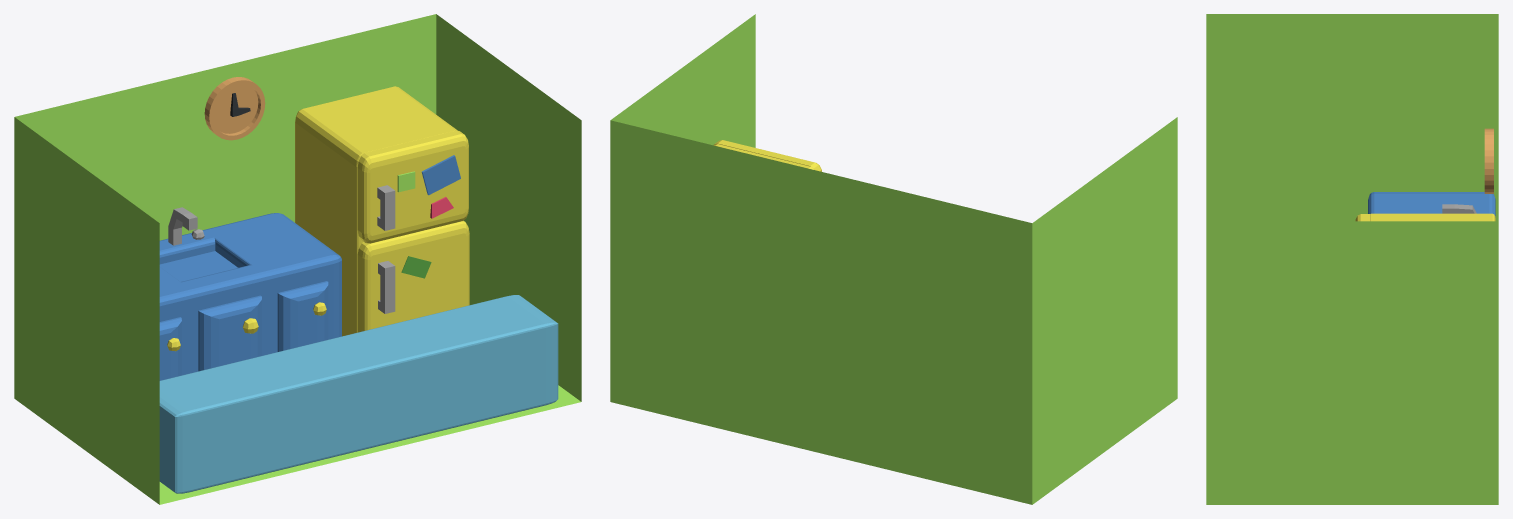
The model's file is cocina_mesa.glb.
3 renders of one model, left to right at view 1: azimuth 30°, elevation 25°; view 2: azimuth 150°, elevation 25°; view 3: azimuth 270°, elevation 25°, orthographic.
Visible parts, largest first — view 1: Nivel3; view 2: Nivel3; view 3: Nivel3.
Boxes of the visible parts, box(x1,y1,x2,y2) form: Nivel3: box(14, 14, 581, 504); Nivel3: box(610, 14, 1177, 504); Nivel3: box(1206, 14, 1498, 504).
Bounding box in the file's own units: 12.07 × 7.7 × 7.2.
